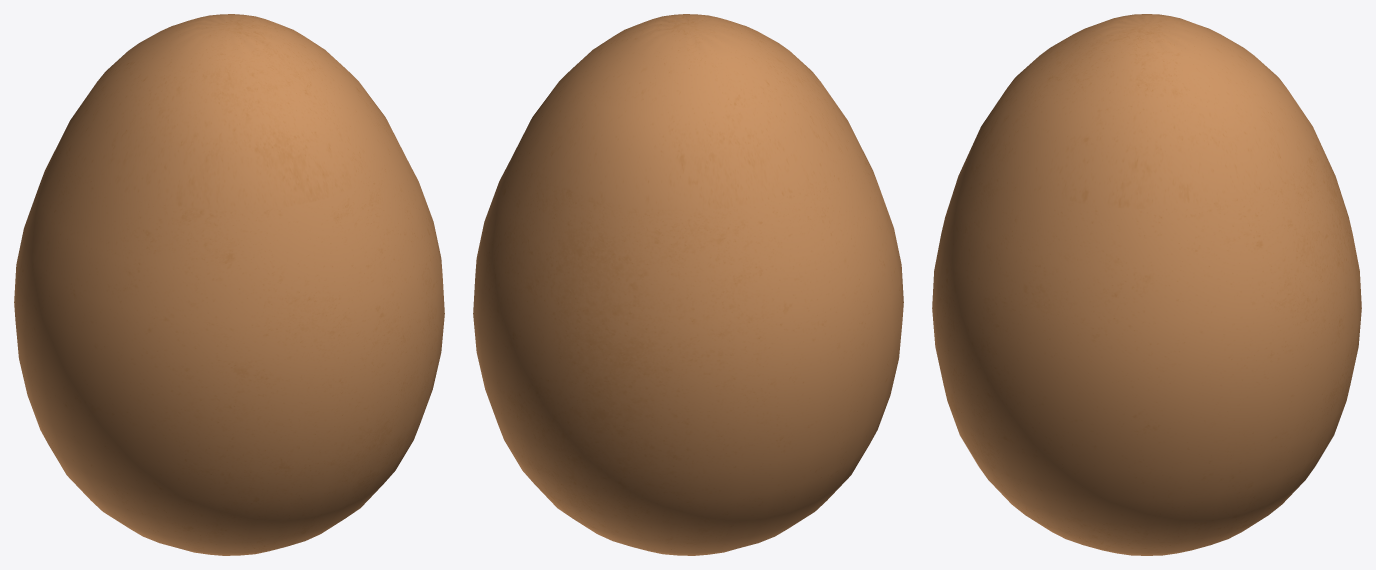
Rendered from egg.gltf.
3 renders of one model, left to right at view 1: azimuth 30°, elevation 25°; view 2: azimuth 150°, elevation 25°; view 3: azimuth 270°, elevation 25°, orthographic.
Visible parts, largest first — view 1: Sphere.001; view 2: Sphere.001; view 3: Sphere.001.
Boxes of the visible parts, left/top/right/bottom form: Sphere.001: left=14, top=14, right=444, bottom=555; Sphere.001: left=473, top=14, right=903, bottom=555; Sphere.001: left=932, top=14, right=1361, bottom=555.
Size of the model in its own units: 8.86 by 11.51 by 8.8.
